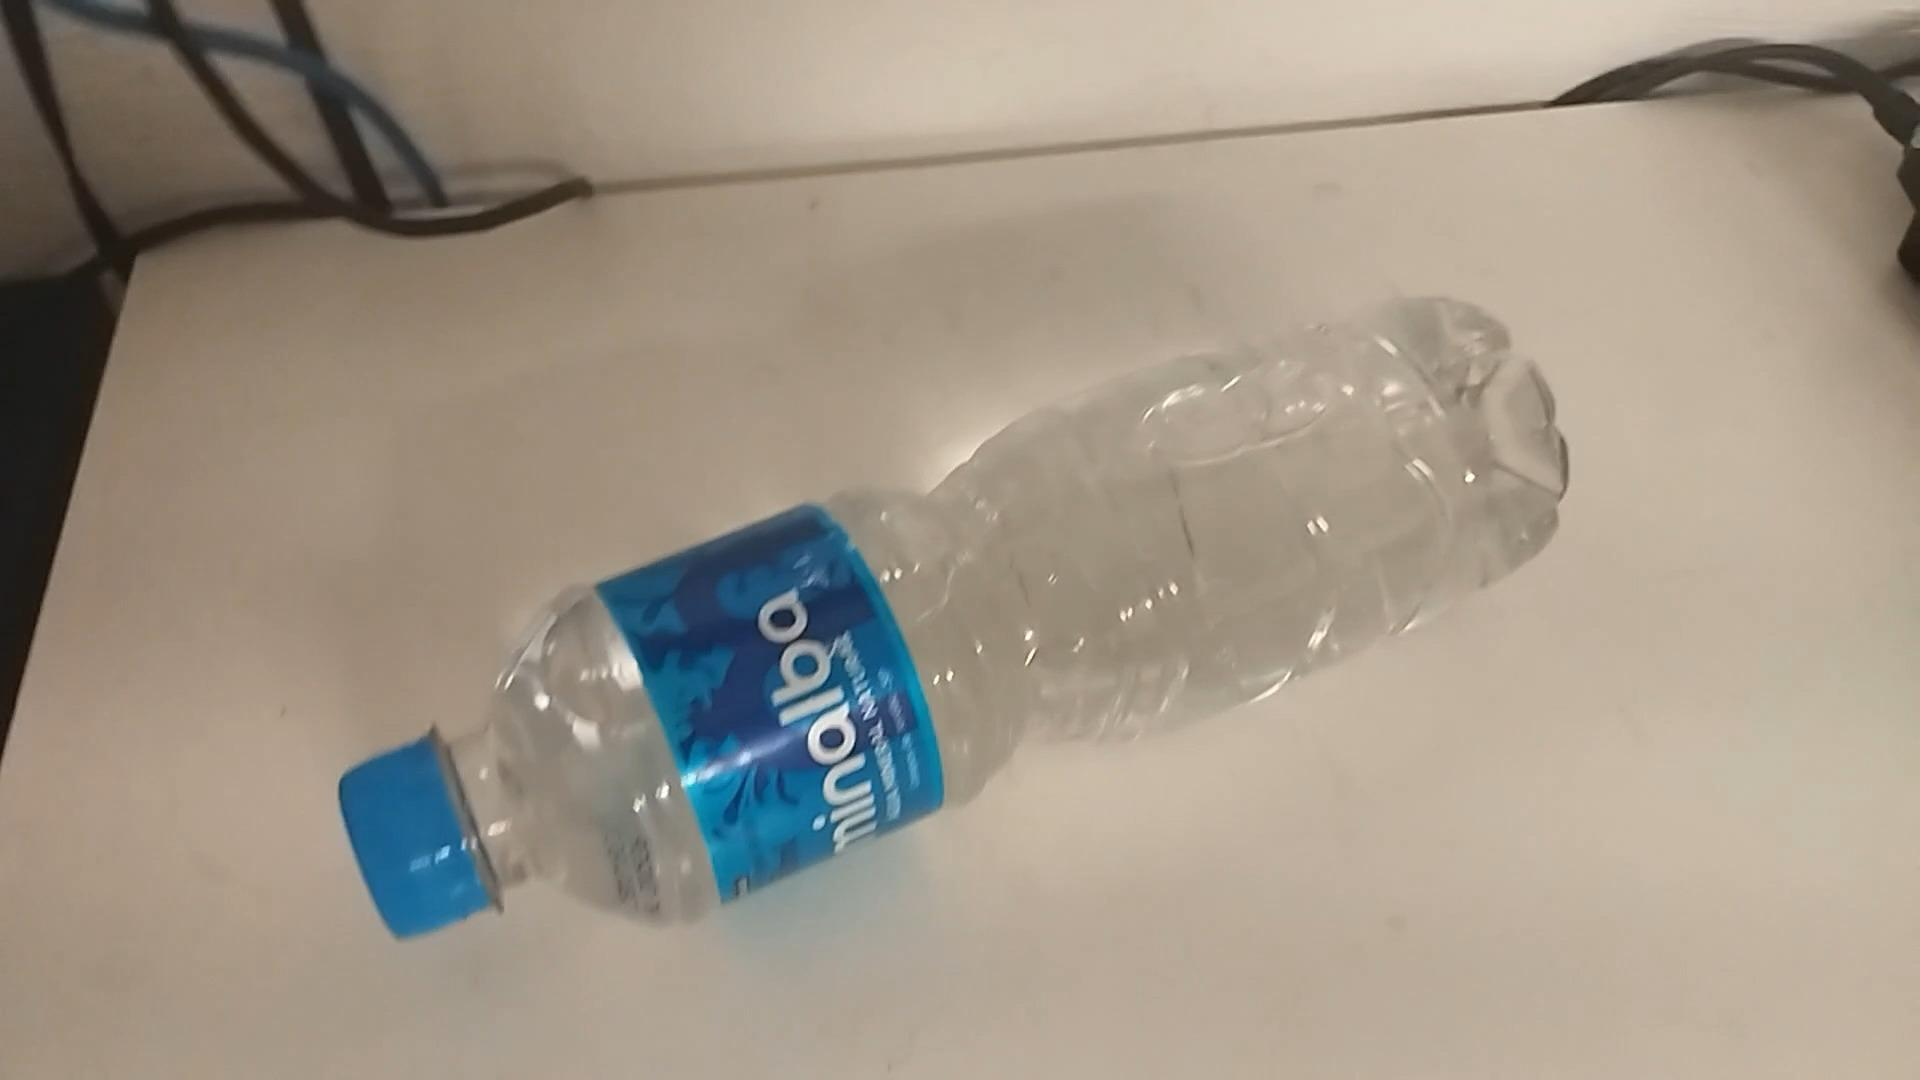agua: (356, 305, 1528, 938)
